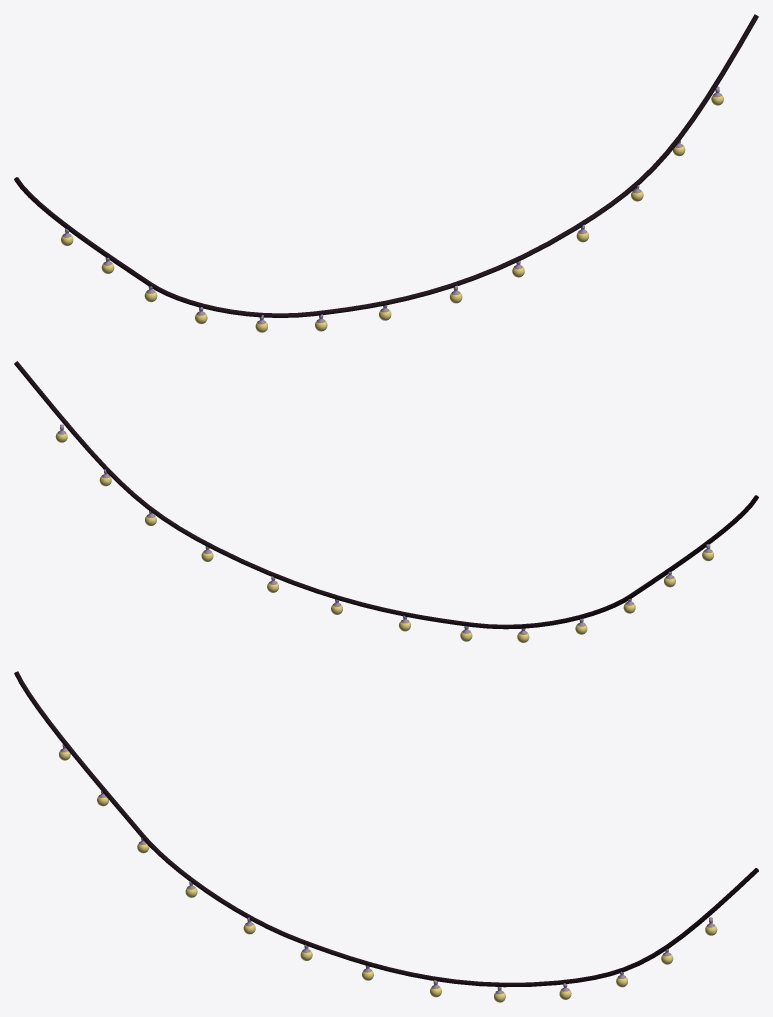
Rendered from lamp project vrij.fbx.
The picture shows the model from 3 angles, top to bottom: view 1: azimuth 30°, elevation 25°; view 2: azimuth 150°, elevation 25°; view 3: azimuth 330°, elevation 25°; orthographic projection. The views are drawn at different scales.
Visible parts, largest first — view 1: BezierCurve; view 2: BezierCurve; view 3: BezierCurve.
Boxes of the visible parts, left/top/right/bottom form: BezierCurve: left=14, top=14, right=758, bottom=317; BezierCurve: left=14, top=361, right=758, bottom=629; BezierCurve: left=14, top=671, right=758, bottom=987.
Bounding box in the file's own units: 1401 × 407 × 68.4.
